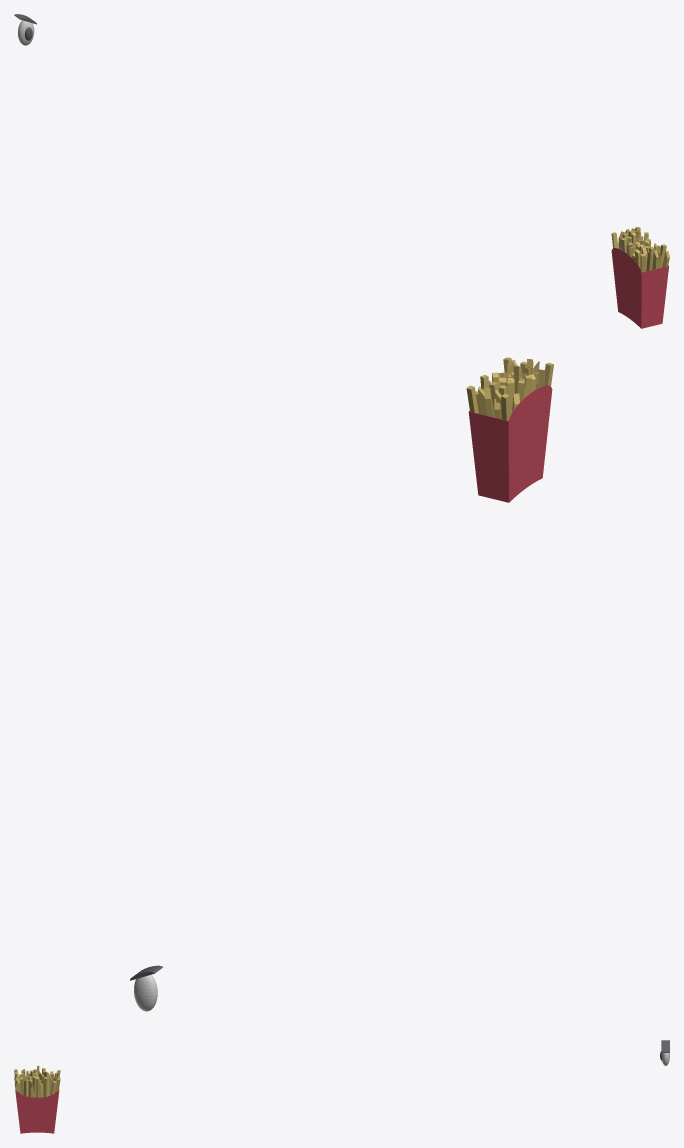
File: fries.glb
3 views of the same model, one above another, from view 1: azimuth 30°, elevation 25°; view 2: azimuth 150°, elevation 25°; view 3: azimuth 270°, elevation 25° (orthographic). The views are drawn at different scales.
Parts seen in each view (by area): view 1: Mesh_Mesh_head_geo.001_lambert2SG.001; view 2: Mesh_Mesh_head_geo.001_lambert2SG.001; view 3: Mesh_Mesh_head_geo.001_lambert2SG.001.
Boxes of the visible parts, <box> form: Mesh_Mesh_head_geo.001_lambert2SG.001: <box>14,14,669,328</box>; Mesh_Mesh_head_geo.001_lambert2SG.001: <box>130,357,553,1011</box>; Mesh_Mesh_head_geo.001_lambert2SG.001: <box>14,1040,669,1133</box>.
Size of the model in its own units: 0.0723 by 0.0287 by 0.2752.
